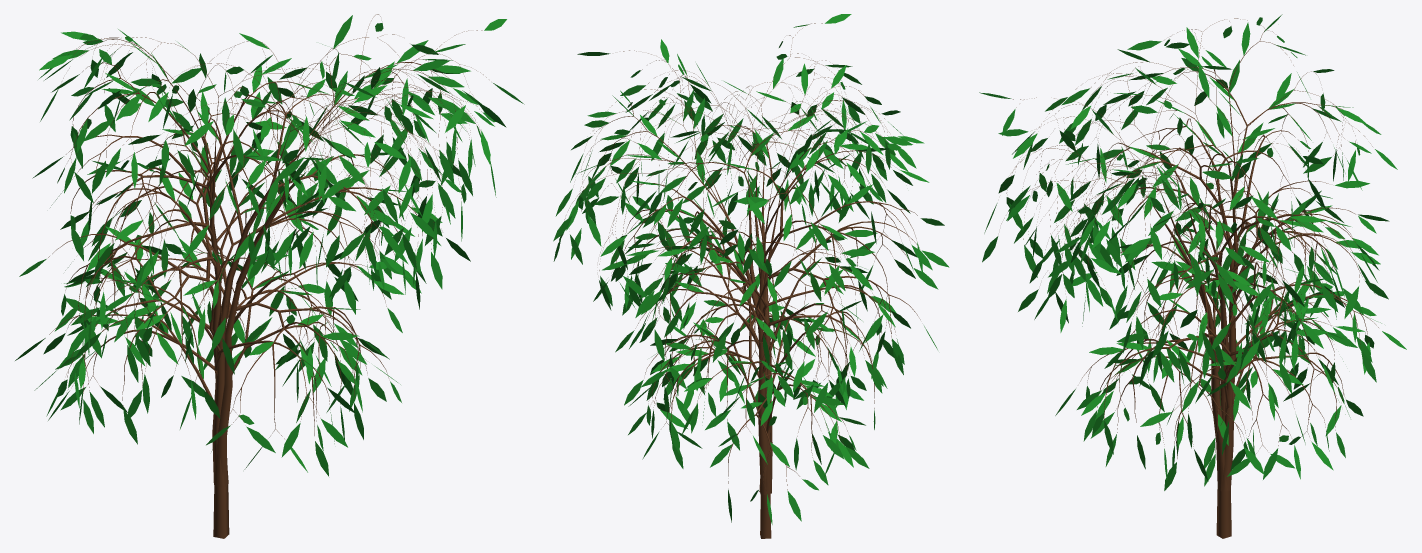
File: Tree.dae
3 renders of one model, left to right at view 1: azimuth 30°, elevation 25°; view 2: azimuth 150°, elevation 25°; view 3: azimuth 270°, elevation 25°, orthographic. The views are drawn at different scales.
Parts seen in each view (by area): view 1: leaves_010, Tree; view 2: leaves_010, Tree; view 3: leaves_010, Tree.
Boxes of the visible parts, x1=… form: leaves_010: x1=15, y1=15, x2=524, y2=476; Tree: x1=48, y1=14, x2=486, y2=538; leaves_010: x1=553, y1=14, x2=949, y2=524; Tree: x1=561, y1=23, x2=920, y2=538; leaves_010: x1=979, y1=14, x2=1406, y2=490; Tree: x1=1001, y1=18, x2=1378, y2=538.
Bounding box in the file's own units: 7.04 × 6.65 × 8.19.
